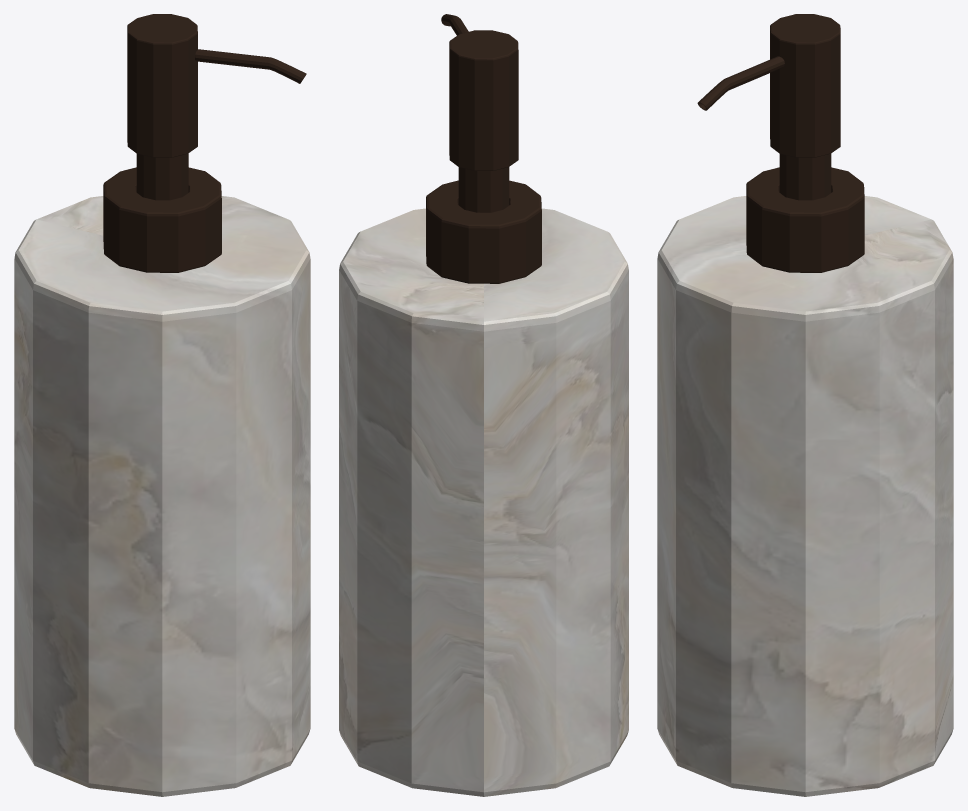
Rendered from soap-dispenser-3.obj.
3 views of the same model, side by side, from view 1: azimuth 30°, elevation 25°; view 2: azimuth 150°, elevation 25°; view 3: azimuth 270°, elevation 25° (orthographic). The views are drawn at different scales.
Parts seen in each view (by area): view 1: Bathroom_accessories_085; view 2: Bathroom_accessories_085; view 3: Bathroom_accessories_085.
Boxes of the visible parts, x1=… form: Bathroom_accessories_085: x1=14, y1=14, x2=310, y2=796; Bathroom_accessories_085: x1=339, y1=14, x2=628, y2=796; Bathroom_accessories_085: x1=657, y1=14, x2=953, y2=796.
Size of the model in its own units: 7.21 by 18.84 by 7.14.
2 materials, 1 textured.
